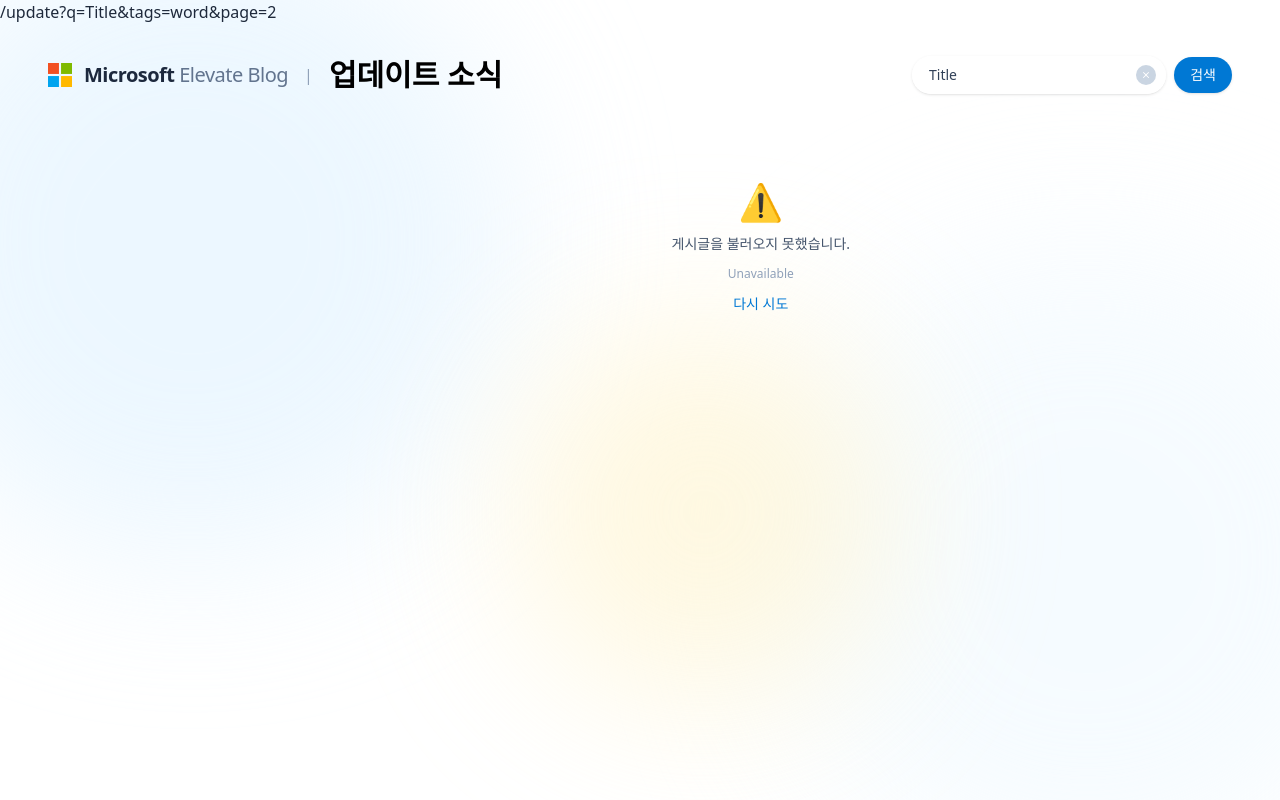
preserves update search, normalized tags and pagination when retrying
Expected: the message "⚠️ 게시글을 불러오지 못했습니다. Unavailable 다시 시도" is shown, [672,177,850,314]
Click the button "다시 시도" at (761, 304), box [733,294,788,314]
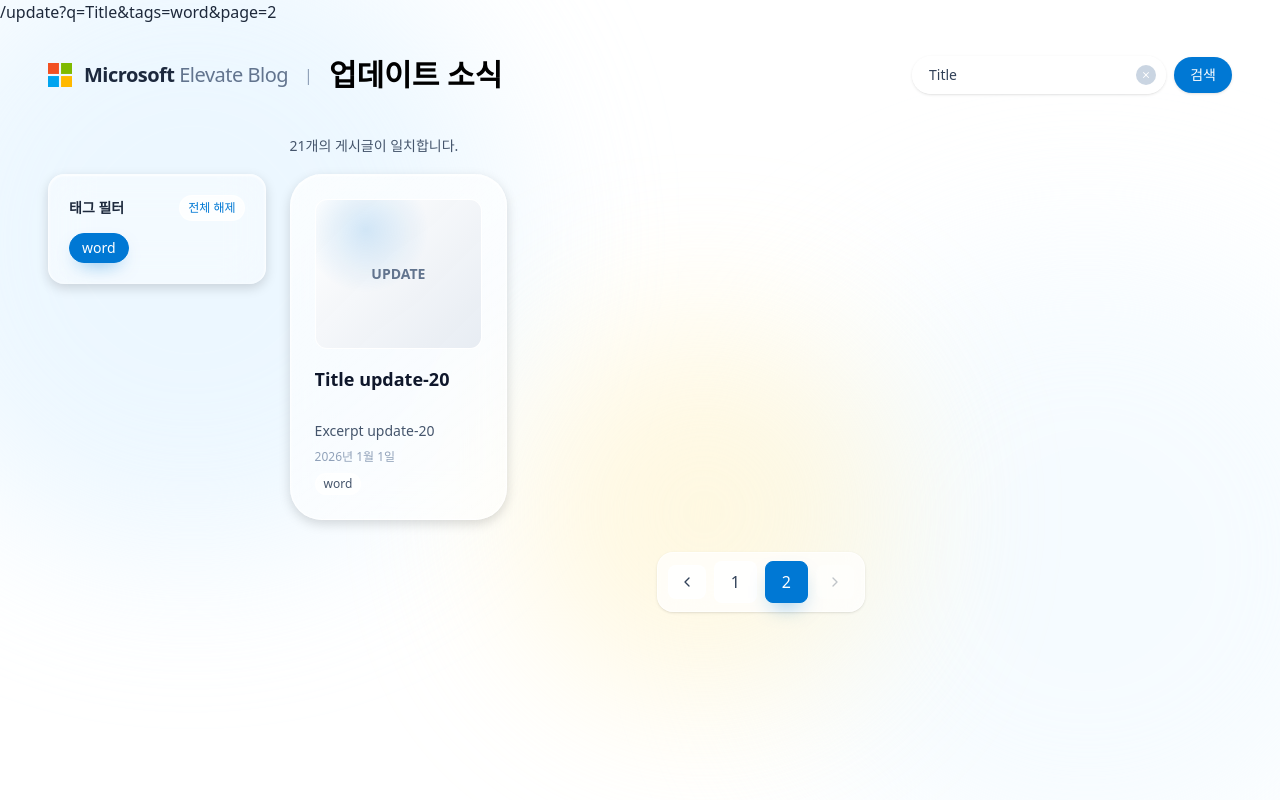
Expected: the text "/update?q=Title&tags=word&page=2" is shown, [0,1,276,23]
Expected: the text "Title update-20" is shown, [315,367,450,391]
